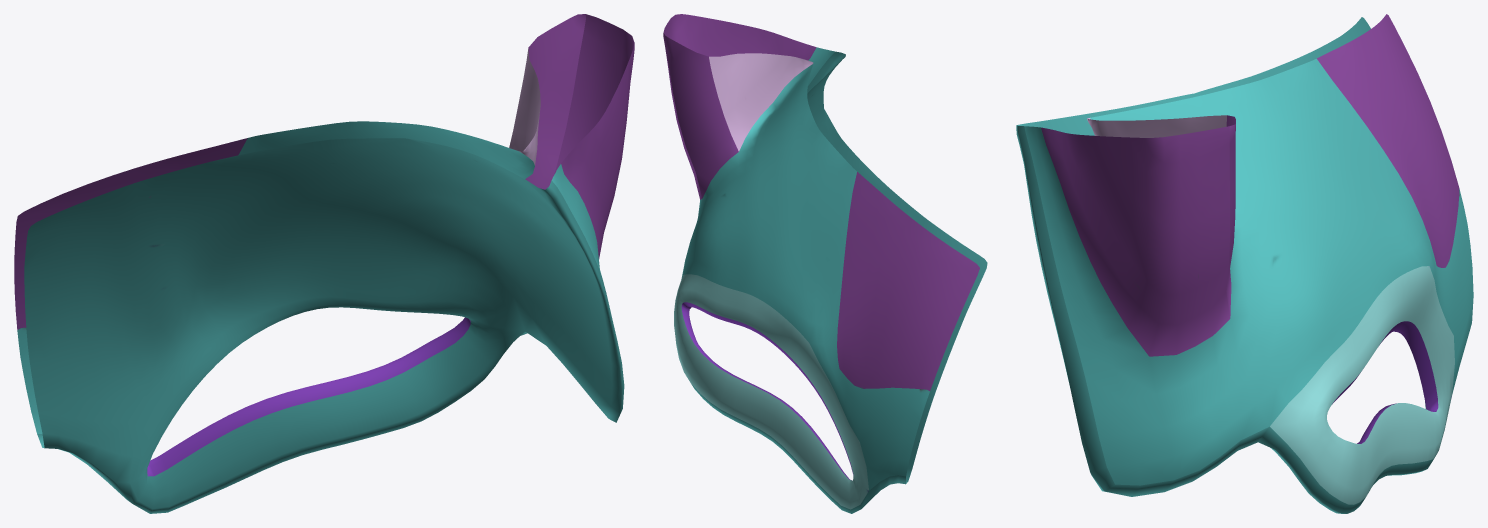
The model's file is shard4.fbx.
3 renders of one model, left to right at view 1: azimuth 30°, elevation 25°; view 2: azimuth 150°, elevation 25°; view 3: azimuth 270°, elevation 25°, orthographic. The views are drawn at different scales.
Visible parts, largest first — view 1: U_EnemyShard04; view 2: U_EnemyShard04; view 3: U_EnemyShard04.
Boxes of the visible parts, left/top/right/bottom form: U_EnemyShard04: left=14, top=14, right=634, bottom=513; U_EnemyShard04: left=663, top=14, right=987, bottom=513; U_EnemyShard04: left=1016, top=14, right=1473, bottom=513.
Size of the model in its own units: 0.8949 by 0.8149 by 0.6553.
